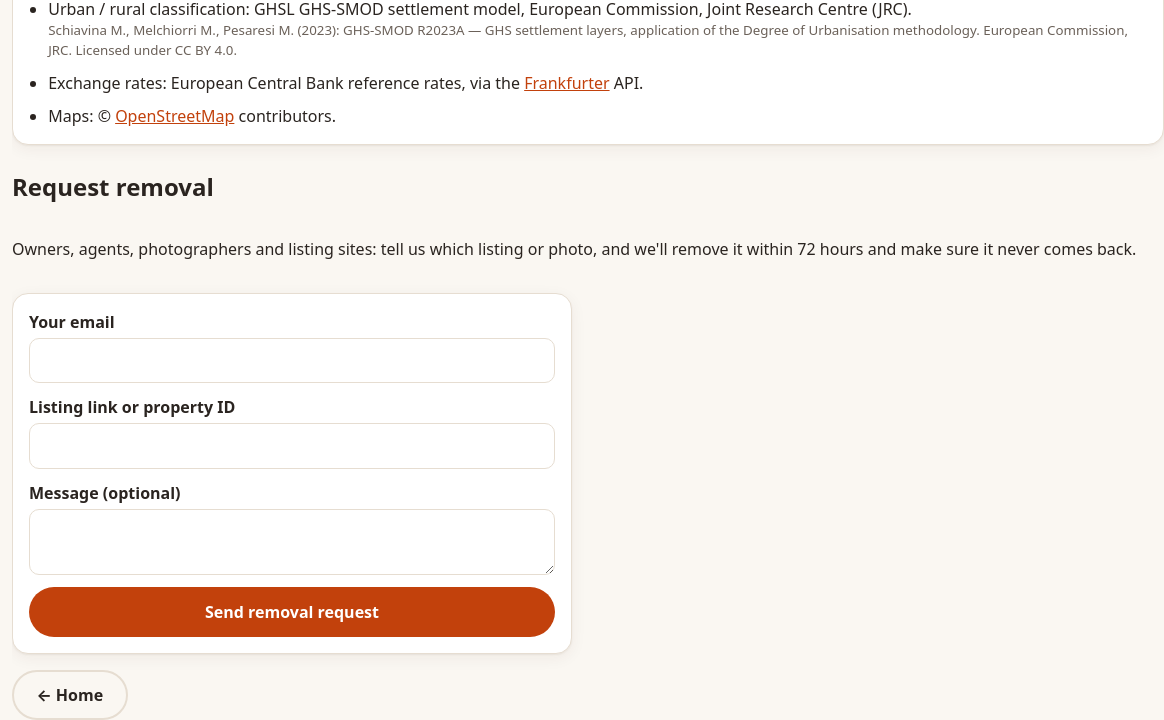
Scenario: About page › lists sources and sends a removal request
(page scrolled)
Expected: the text "GHS-SMOD" is shown, [48,21,1128,59]
Type "me@example.com" into the field labelled "Your email" at (292, 361), box [29,338,555,383]
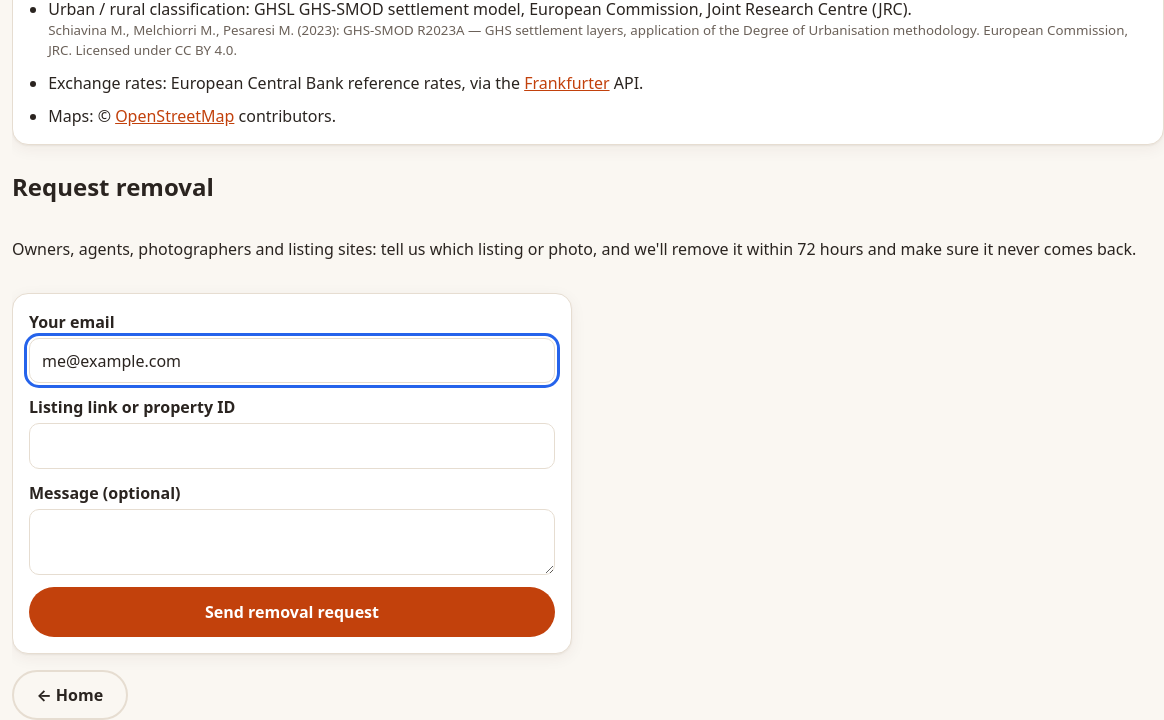
Type "https://example.com/x" into the field labelled "Listing link or property ID" at (292, 446), box [29,423,555,468]
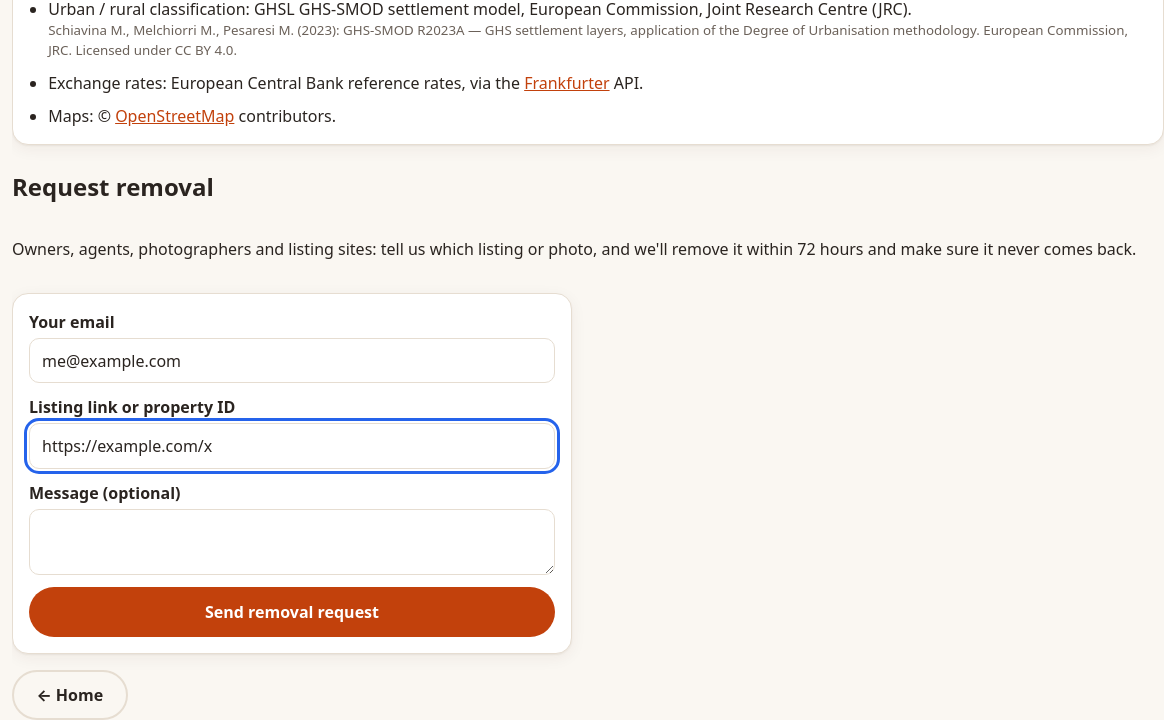
Click the button "Send removal request" at (292, 612), box [29,587,555,637]
(page scrolled)
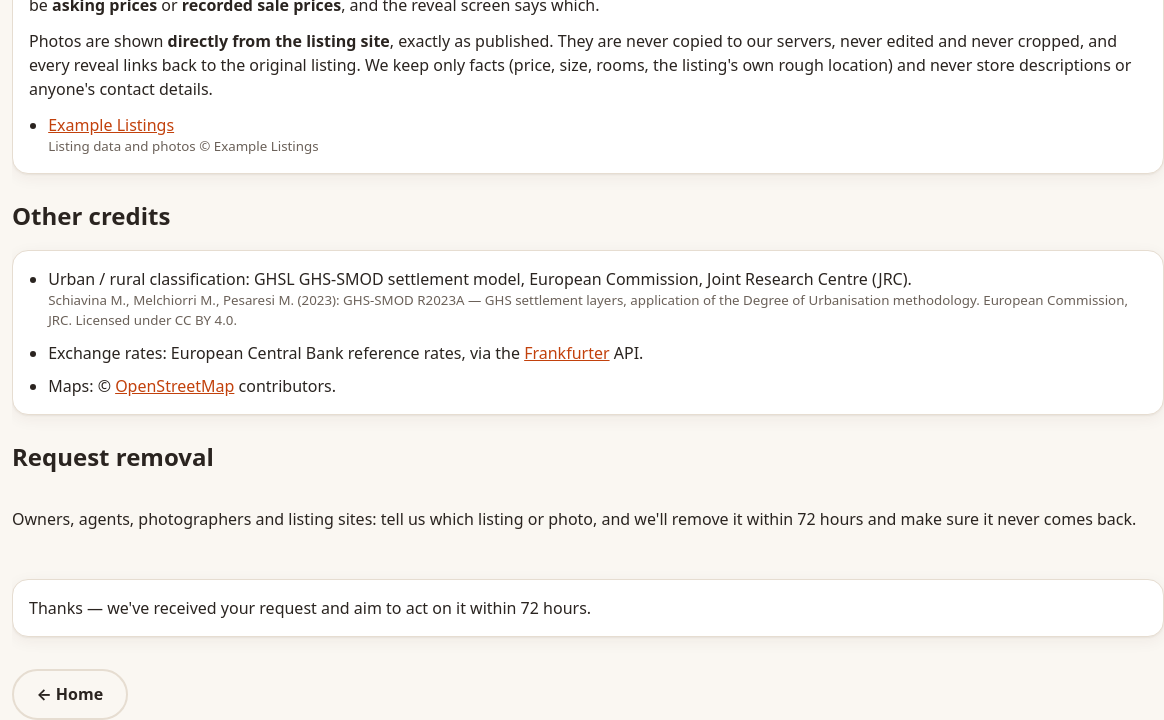
Expected: the message shows "within 72 hours", [29,597,591,619]
